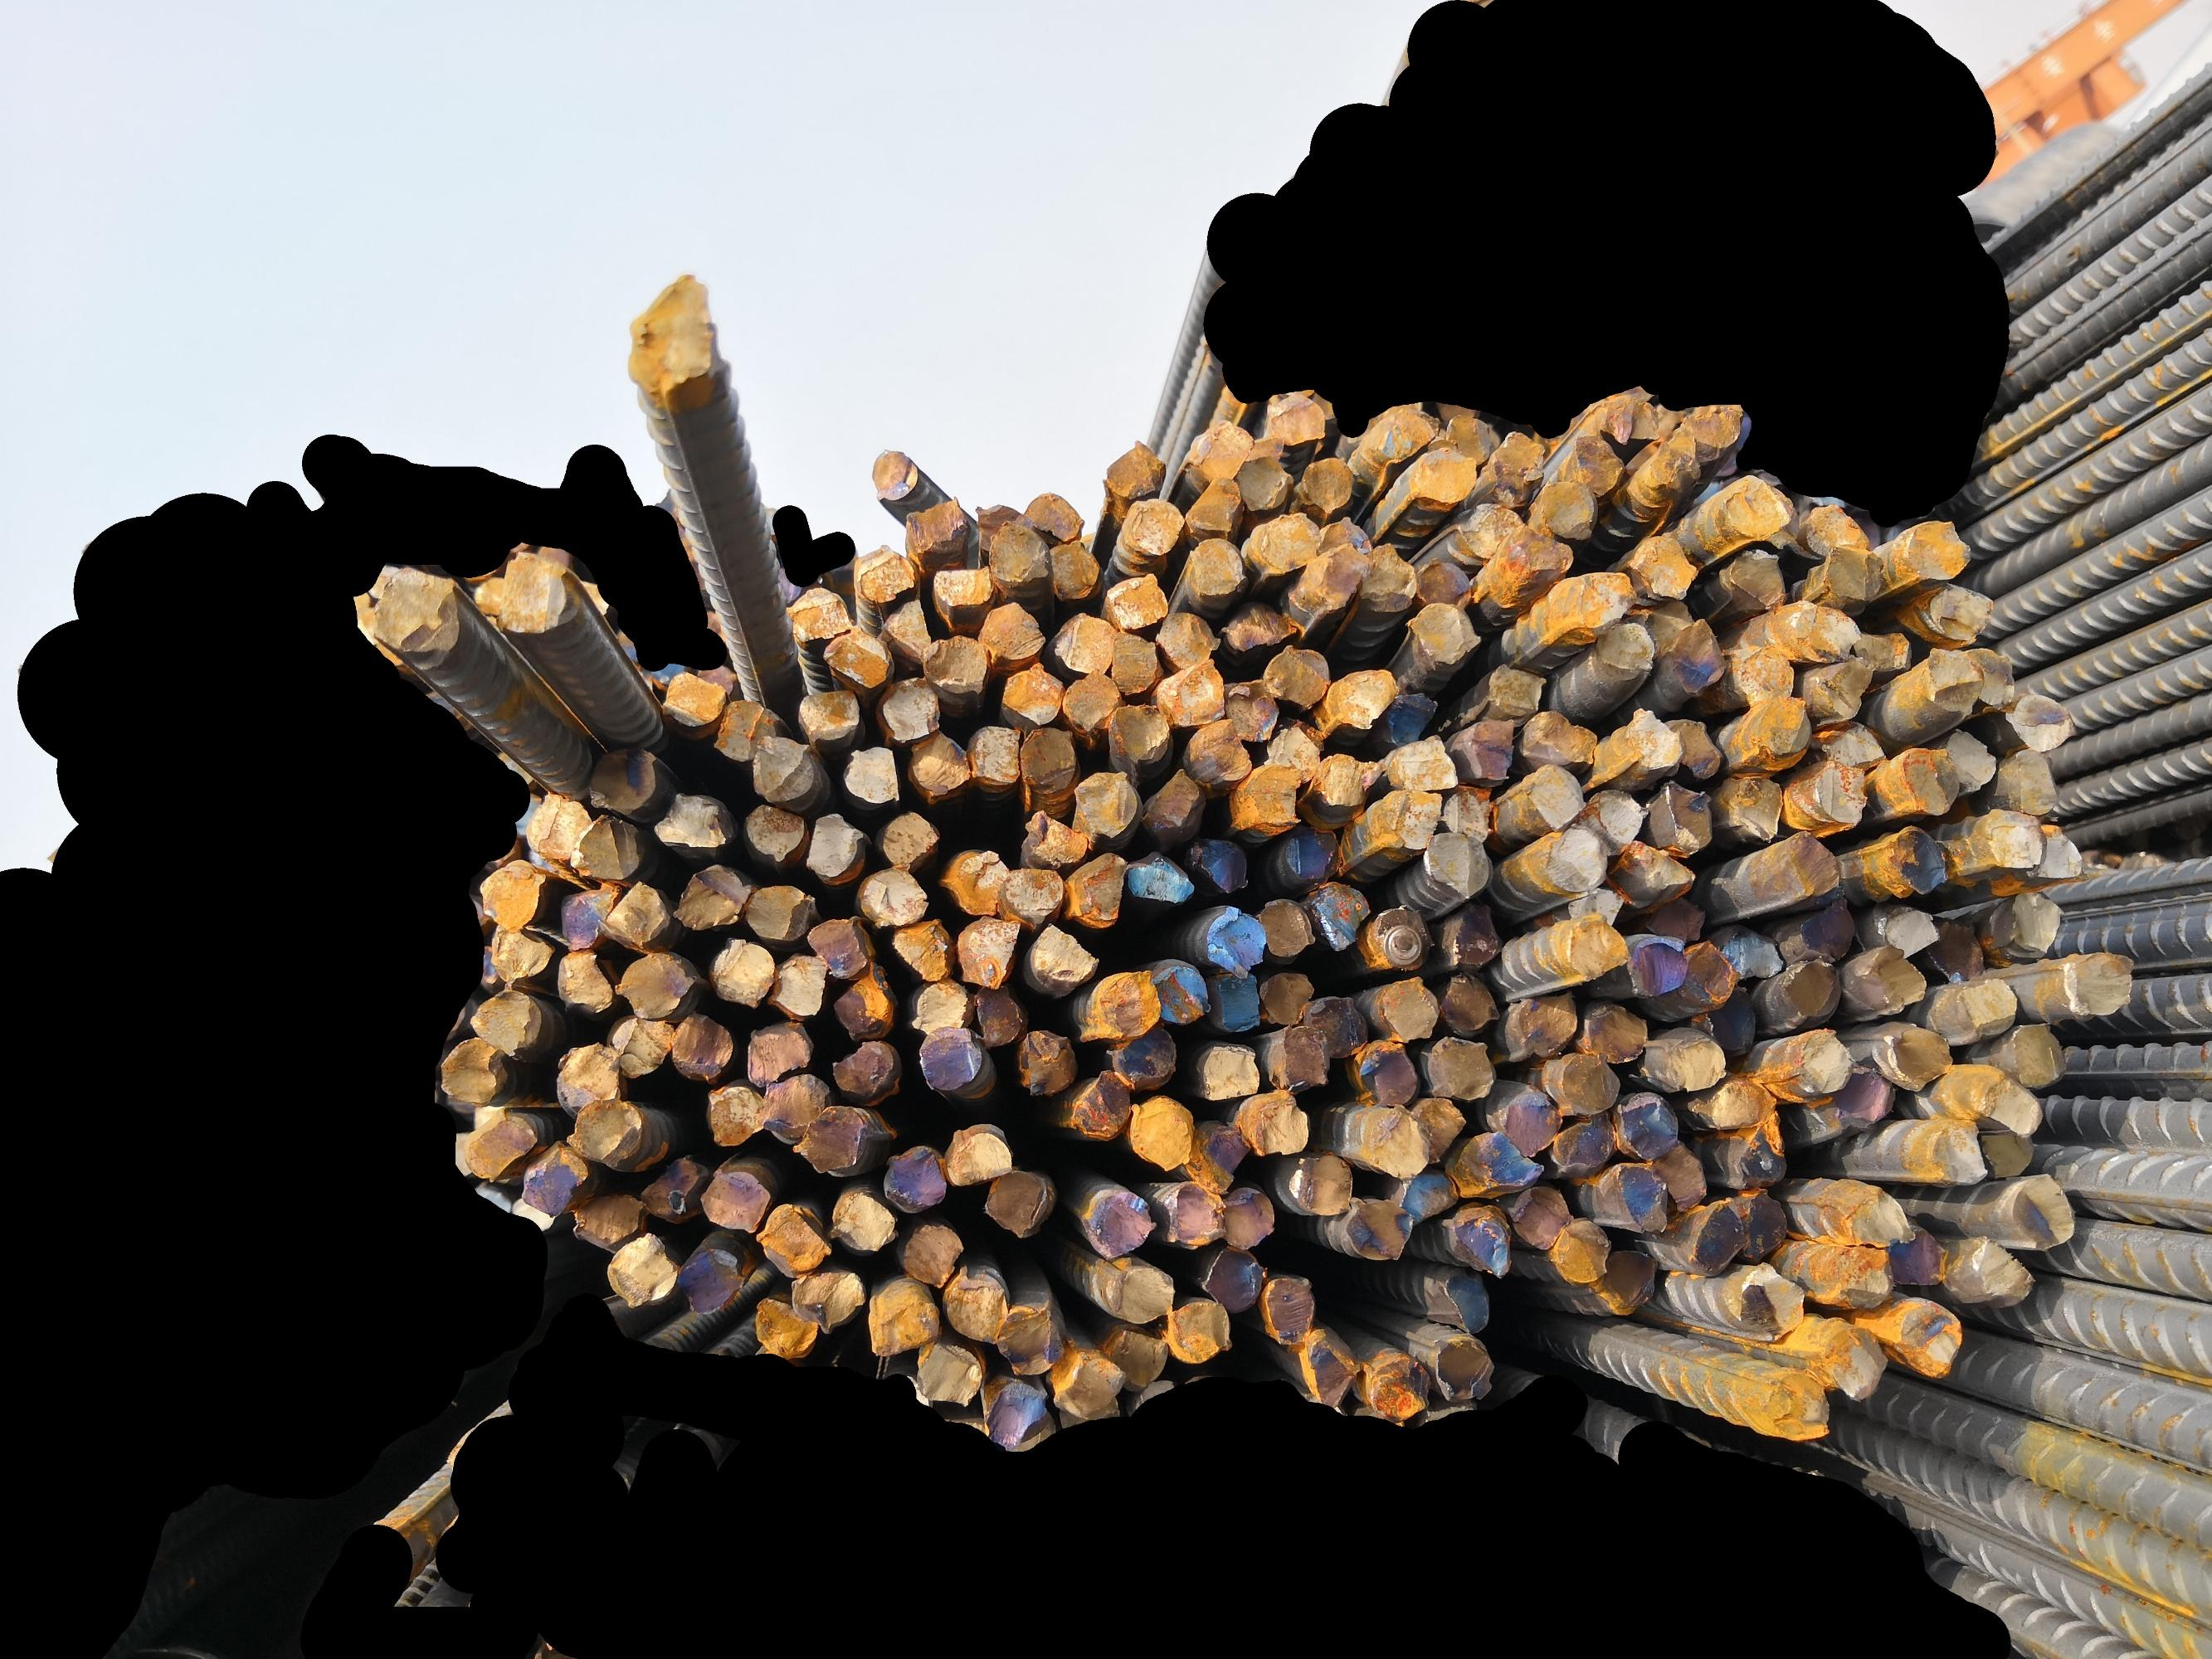bar: (621, 270, 720, 401), (471, 551, 579, 640), (368, 561, 464, 657), (1605, 836, 1696, 913), (1347, 1105, 1433, 1178), (1722, 469, 1799, 549), (1077, 969, 1163, 1040), (460, 1107, 537, 1185), (601, 1229, 675, 1310), (615, 948, 697, 1021), (1077, 1188, 1157, 1262), (586, 741, 661, 817), (753, 1201, 830, 1276), (1890, 1302, 1964, 1378), (567, 1098, 643, 1171), (2060, 946, 2137, 1019), (760, 1070, 833, 1145), (673, 861, 750, 932), (519, 1141, 589, 1220), (1738, 1258, 1806, 1338), (1130, 1091, 1196, 1173), (866, 1284, 940, 1358), (551, 1044, 622, 1119), (1761, 1368, 1832, 1443), (980, 1377, 1049, 1453), (2006, 1173, 2076, 1249), (652, 789, 734, 854), (793, 1101, 866, 1173), (1644, 777, 1712, 854), (830, 962, 896, 1040), (1231, 760, 1302, 831), (1964, 1237, 2036, 1309), (1159, 1176, 1227, 1251), (1818, 1324, 1886, 1399), (955, 911, 1021, 988), (1203, 901, 1267, 979), (570, 814, 641, 884), (983, 1166, 1053, 1237), (1107, 1019, 1178, 1089), (1590, 1246, 1659, 1317), (1262, 640, 1333, 709), (818, 624, 891, 692), (1072, 767, 1140, 840), (1180, 1121, 1248, 1194), (788, 1267, 865, 1331), (1464, 1131, 1544, 1192), (436, 1035, 506, 1105), (523, 789, 591, 861), (743, 1021, 814, 1089), (997, 1305, 1065, 1377), (1102, 1321, 1170, 1392), (1159, 1298, 1231, 1366), (1154, 657, 1225, 725), (1881, 1025, 1952, 1093), (1917, 643, 1985, 714), (748, 732, 814, 805), (1788, 599, 1862, 666), (709, 934, 774, 1009), (882, 1141, 947, 1216), (856, 864, 931, 929), (1405, 601, 1482, 664), (479, 861, 547, 931), (675, 1246, 744, 1314), (1110, 1262, 1180, 1330), (1496, 1087, 1564, 1157), (1421, 829, 1490, 897), (1560, 913, 1630, 981), (919, 631, 990, 697), (1053, 1351, 1124, 1417), (1325, 664, 1396, 730), (1523, 762, 1590, 833), (708, 695, 781, 760), (1342, 1197, 1415, 1262), (1691, 1077, 1780, 1129), (915, 1025, 983, 1093), (903, 728, 971, 796), (943, 847, 1011, 915), (472, 988, 539, 1058), (669, 1011, 736, 1080), (830, 1183, 896, 1253), (1034, 920, 1100, 990), (1551, 1107, 1618, 1176), (1715, 774, 1781, 843), (1578, 999, 1649, 1063), (1863, 945, 1928, 1016), (1572, 789, 1644, 854), (943, 1121, 1016, 1183), (1248, 509, 1321, 572), (1729, 1112, 1788, 1188), (750, 1293, 818, 1359), (638, 1155, 704, 1223), (898, 1220, 964, 1288), (1511, 992, 1578, 1060), (1572, 565, 1639, 633), (983, 521, 1053, 586), (701, 1169, 770, 1234), (601, 880, 666, 950), (1365, 1352, 1429, 1422), (1546, 1215, 1611, 1284), (1884, 824, 1949, 894), (1424, 1037, 1496, 1100), (1815, 652, 1877, 723), (1070, 849, 1126, 929), (1781, 829, 1842, 903), (2005, 692, 2080, 751), (741, 882, 818, 939), (1220, 594, 1297, 652), (887, 917, 953, 983), (877, 674, 943, 741), (1065, 1070, 1131, 1136), (1975, 1072, 2043, 1136), (1928, 579, 1996, 643), (847, 542, 917, 605), (915, 1344, 985, 1406), (1307, 882, 1370, 951), (1544, 823, 1607, 892), (1668, 615, 1724, 694), (1628, 535, 1698, 598), (657, 669, 729, 730), (1998, 746, 2059, 817), (1455, 500, 1529, 559), (1842, 1188, 1916, 1248), (1900, 742, 1959, 816), (1703, 983, 1761, 1058), (1625, 594, 1700, 652), (1689, 1197, 1745, 1274), (1733, 1187, 1788, 1263), (945, 1276, 1009, 1342), (1053, 608, 1119, 673), (1625, 932, 1689, 999), (1302, 542, 1370, 605), (976, 599, 1046, 660), (899, 495, 969, 556), (1529, 706, 1598, 767), (1647, 1140, 1708, 1209), (1726, 544, 1787, 613), (1802, 500, 1874, 559), (560, 877, 617, 950), (1313, 751, 1386, 809), (1405, 448, 1480, 504), (490, 922, 554, 986), (1143, 960, 1210, 1023), (1832, 1063, 1898, 1126), (783, 584, 851, 645), (1199, 1246, 1260, 1314), (1497, 523, 1574, 577), (553, 946, 612, 1016), (1020, 725, 1079, 795), (2010, 1019, 2069, 1089), (805, 807, 863, 878), (1016, 1025, 1074, 1096), (1799, 890, 1856, 962), (568, 1190, 643, 1244), (608, 1016, 673, 1079), (704, 1082, 767, 1147), (1198, 1042, 1262, 1105), (1304, 993, 1367, 1058), (1558, 1053, 1621, 1117), (1191, 418, 1255, 481), (1830, 1246, 1895, 1309), (1790, 1028, 1853, 1093), (1733, 641, 1795, 706), (1907, 516, 1970, 580), (1431, 1337, 1492, 1403), (1358, 1040, 1419, 1107), (1372, 903, 1433, 969), (1100, 439, 1166, 500), (1618, 1093, 1679, 1159), (1680, 939, 1741, 1006), (1442, 899, 1501, 967), (1358, 542, 1417, 610), (1454, 1209, 1511, 1279), (1931, 1117, 1989, 1187), (826, 1040, 898, 1096), (1220, 1182, 1276, 1253), (1388, 734, 1459, 789), (1612, 1161, 1666, 1234), (804, 913, 866, 976), (1002, 662, 1065, 725), (1288, 1155, 1351, 1218), (1260, 718, 1323, 781), (1884, 1223, 1947, 1286), (1984, 809, 2046, 871), (1156, 608, 1220, 669), (1663, 1028, 1727, 1089), (1752, 692, 1811, 758), (973, 495, 1035, 556), (1510, 1187, 1571, 1249), (1189, 718, 1252, 779), (1107, 702, 1170, 763), (1381, 786, 1442, 849), (1780, 955, 1841, 1018), (1621, 708, 1684, 769), (1593, 615, 1656, 676), (1816, 716, 1890, 769), (741, 803, 805, 863), (1958, 976, 2017, 1040), (795, 687, 861, 744), (999, 864, 1065, 922), (1271, 1023, 1328, 1089), (1062, 667, 1119, 734), (1220, 676, 1278, 742), (1537, 476, 1595, 542), (1665, 713, 1722, 779), (770, 951, 826, 1019), (1126, 850, 1194, 906), (969, 981, 1025, 1049), (1381, 974, 1436, 1042), (1410, 1094, 1466, 1162), (1813, 760, 1867, 829), (1250, 1096, 1311, 1157), (1823, 540, 1884, 601), (2027, 821, 2088, 882), (1025, 809, 1088, 868), (1438, 971, 1497, 1033), (1926, 917, 1985, 979), (1105, 570, 1170, 627), (1262, 392, 1328, 448), (1942, 725, 1998, 791), (838, 744, 899, 803), (1184, 537, 1245, 596), (1264, 1276, 1314, 1347), (1123, 497, 1185, 554), (1297, 451, 1354, 514), (1485, 444, 1539, 511), (1715, 927, 1783, 979), (1306, 1337, 1356, 1406), (880, 810, 940, 870), (1257, 896, 1314, 957), (1184, 474, 1241, 535), (1147, 767, 1203, 829), (2008, 889, 2062, 953), (1370, 411, 1436, 464), (1462, 714, 1515, 781), (1963, 643, 2015, 709), (910, 976, 967, 1035), (1257, 967, 1314, 1026), (882, 596, 934, 660), (967, 723, 1020, 788), (1647, 427, 1700, 491), (1388, 1169, 1459, 1216), (1020, 491, 1086, 542), (1487, 662, 1548, 716), (1046, 538, 1098, 601), (1571, 434, 1623, 497), (1211, 971, 1262, 1035), (1595, 392, 1659, 443), (1283, 824, 1339, 882), (1236, 455, 1293, 511), (1109, 627, 1156, 695), (1438, 1272, 1489, 1335), (1679, 401, 1745, 448), (866, 448, 922, 504), (1196, 836, 1250, 894), (1442, 784, 1492, 845), (1564, 882, 1625, 932), (1414, 556, 1471, 608), (933, 558, 992, 608), (1644, 896, 1705, 945), (1883, 904, 1937, 958), (1442, 411, 1494, 467), (1382, 692, 1436, 744), (1851, 627, 1910, 674), (1982, 1126, 2034, 1178), (1314, 516, 1374, 561), (1504, 427, 1546, 467)
